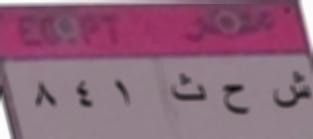1: (110, 75, 138, 110)
4: (72, 77, 98, 113)
7aa: (214, 79, 258, 118)
8: (30, 73, 64, 112)
sheen: (271, 65, 311, 115)
thaa: (169, 66, 209, 108)
